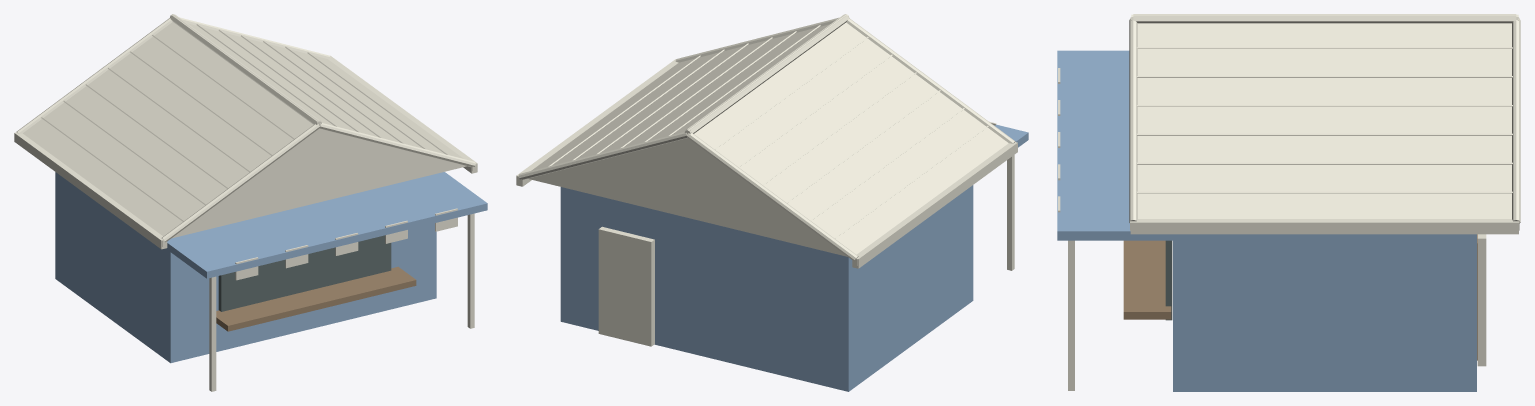
3 views of the same model, side by side, from view 1: azimuth 30°, elevation 25°; view 2: azimuth 150°, elevation 25°; view 3: azimuth 270°, elevation 25° (orthographic). The views are drawn at different scales.
Size of the model in its own units: 8.56 by 5.72 by 8.22.
